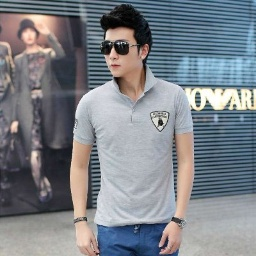face: (100, 4, 153, 77)
